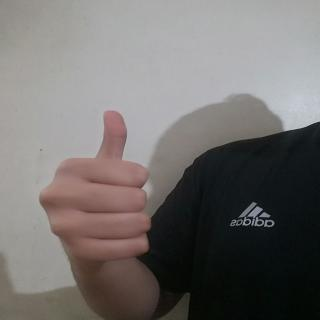ALIF: (34, 104, 160, 267)
